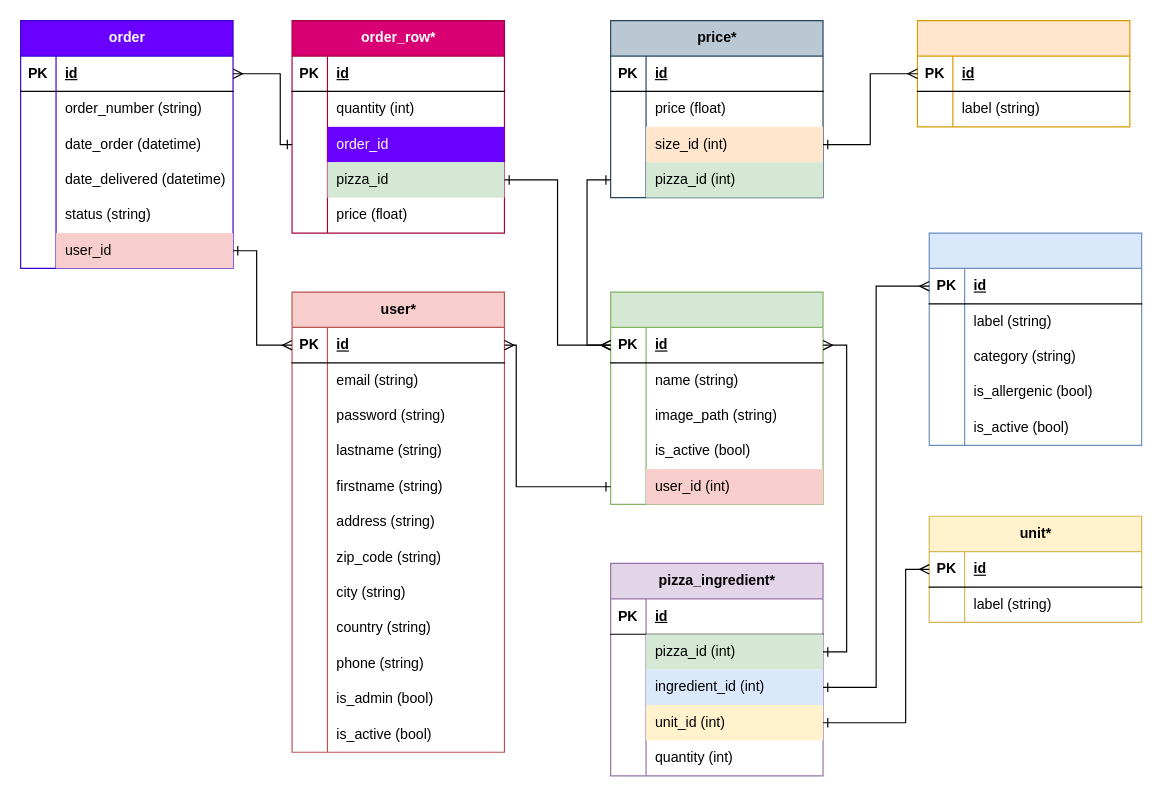
The diagram is 1162 pixels wide and 796 high, and some of its shapes have lost their labels. The shapes that lost their labels are listed below. From the top down, each one's box as (x1, y1, x2, y2) in pixels, then its label:
(916, 19, 1130, 127): size*
(928, 232, 1142, 445): ingredient*
(609, 291, 823, 504): pizza*
